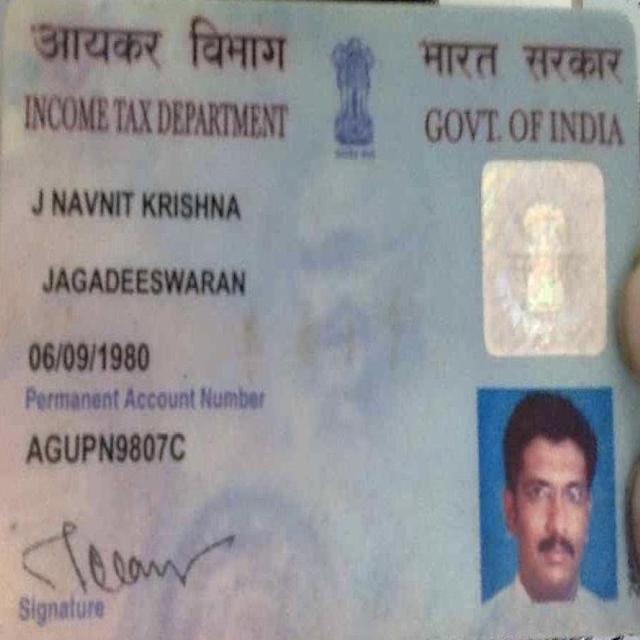pan_card: (1, 1, 640, 637)
